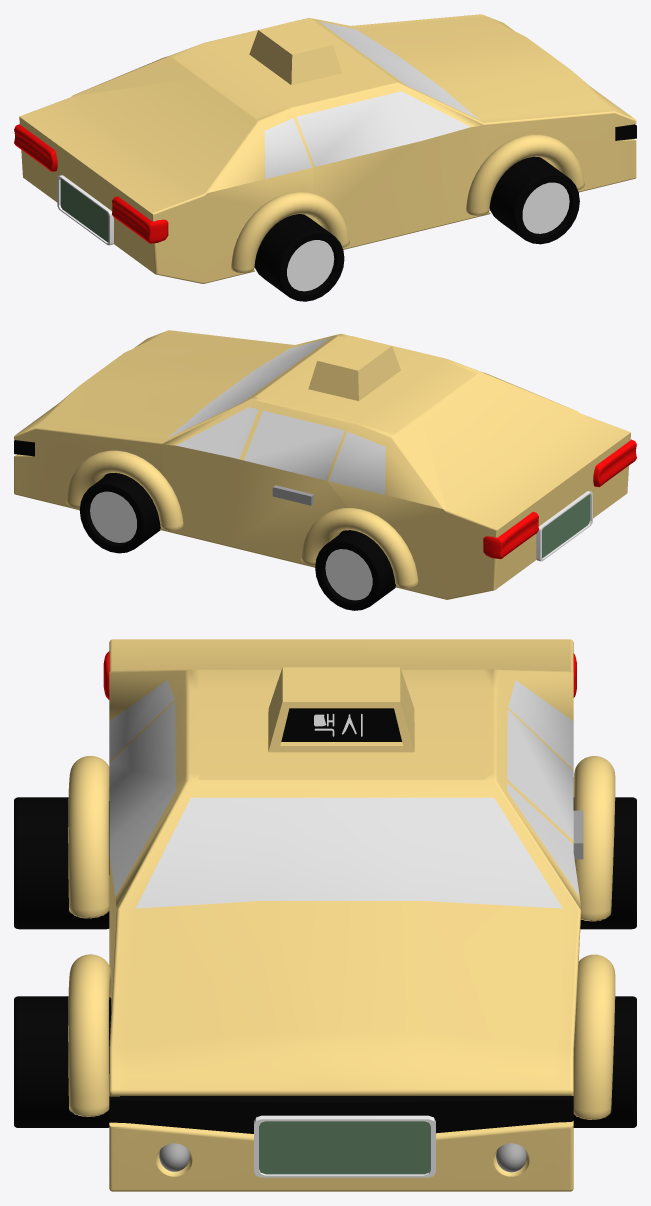
3 views of the same model, one above another, from view 1: azimuth 30°, elevation 25°; view 2: azimuth 150°, elevation 25°; view 3: azimuth 270°, elevation 25° (orthographic). The views are drawn at different scales.
Visible parts, largest first — view 1: polySurface2, pCylinder1, pCylinder2, pCube8, pTorus4, pTorus2, pCube4, pCube3, pCube2; view 2: polySurface2, pCylinder1, pCylinder2, pCube8, pTorus3, pTorus1, pCube4, pCube2, pCube3, pCube1; view 3: polySurface2, pCube8, pCylinder1, pCylinder2, pCube5, pTorus2, pTorus4, pTorus1, pTorus3.
Boxes of the visible parts, box(x1,y1,x2,y2) form: polySurface2: box(19, 14, 636, 283); pCylinder1: box(489, 156, 579, 244); pCylinder2: box(254, 214, 344, 301); pCube8: box(249, 20, 341, 85); pTorus4: box(231, 192, 349, 273); pTorus2: box(466, 134, 584, 215); pCube4: box(57, 175, 113, 245); pCube3: box(112, 196, 168, 243); pCube2: box(14, 124, 57, 171); polySurface2: box(14, 330, 630, 599); pCylinder1: box(79, 472, 160, 553); pCylinder2: box(315, 530, 396, 610); pCube8: box(308, 336, 400, 400); pTorus3: box(301, 508, 418, 588); pTorus1: box(66, 450, 183, 530); pCube4: box(536, 491, 592, 561); pCube2: box(483, 511, 538, 559); pCube3: box(593, 439, 636, 487); pCube1: box(272, 485, 313, 505); polySurface2: box(109, 639, 581, 1191); pCube8: box(268, 667, 414, 752); pCylinder1: box(14, 996, 636, 1127); pCylinder2: box(14, 797, 636, 929); pCube5: box(254, 1115, 435, 1177); pTorus2: box(68, 954, 112, 1116); pTorus4: box(68, 756, 109, 918); pTorus1: box(573, 954, 615, 1119); pTorus3: box(573, 756, 615, 921).
Bounding box in the file's own units: 6.11 × 2.08 × 3.85.
